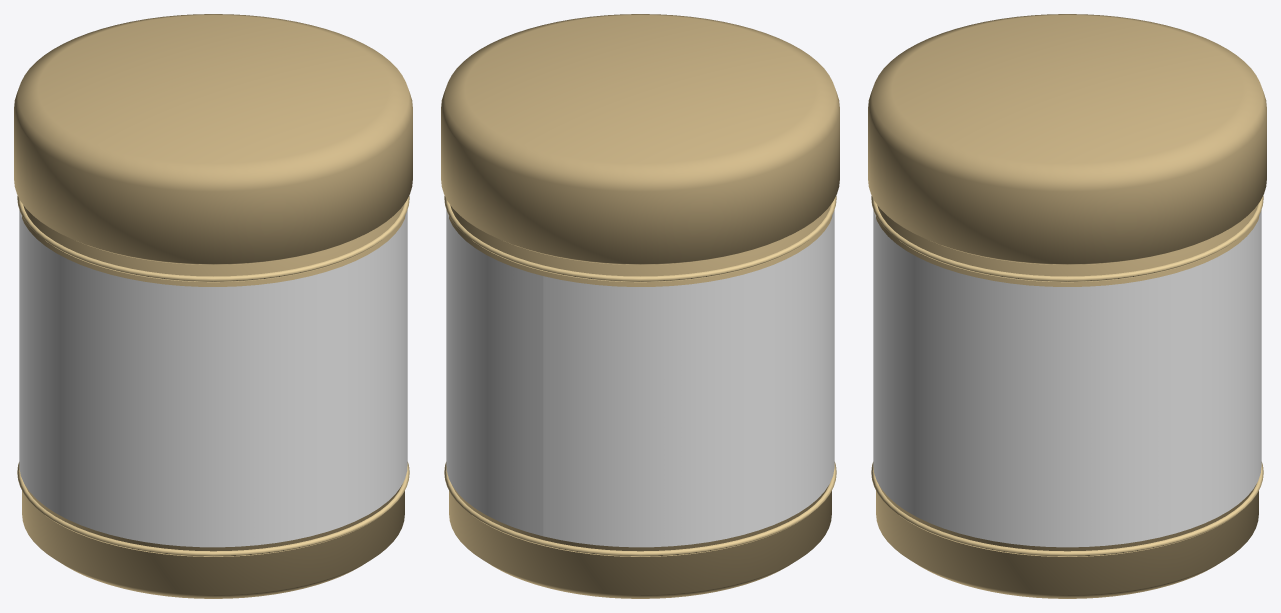
The model's file is tin.glb.
The picture shows the model from 3 angles, left to right: view 1: azimuth 30°, elevation 25°; view 2: azimuth 150°, elevation 25°; view 3: azimuth 270°, elevation 25°; orthographic projection.
Visible parts, largest first — view 1: Label, TinLid, TinBody, TinTrimBottom, TinTrimTop; view 2: Label, TinLid, TinBody, TinTrimBottom, TinTrimTop; view 3: Label, TinLid, TinBody, TinTrimBottom, TinTrimTop.
Boxes of the visible parts, box(x1,y1,x2,y2) form: Label: box(19, 210, 407, 547); TinLid: box(14, 14, 412, 264); TinBody: box(22, 205, 404, 598); TinTrimBottom: box(17, 462, 409, 556); TinTrimTop: box(17, 195, 409, 282); Label: box(446, 210, 834, 547); TinLid: box(441, 14, 839, 264); TinBody: box(449, 205, 831, 598); TinTrimBottom: box(444, 462, 836, 556); TinTrimTop: box(444, 195, 836, 282); Label: box(873, 210, 1261, 547); TinLid: box(868, 14, 1266, 264); TinBody: box(876, 205, 1258, 598); TinTrimBottom: box(871, 462, 1263, 556); TinTrimTop: box(871, 195, 1263, 282).
Size of the model in its own units: 1 by 1.2 by 1.
